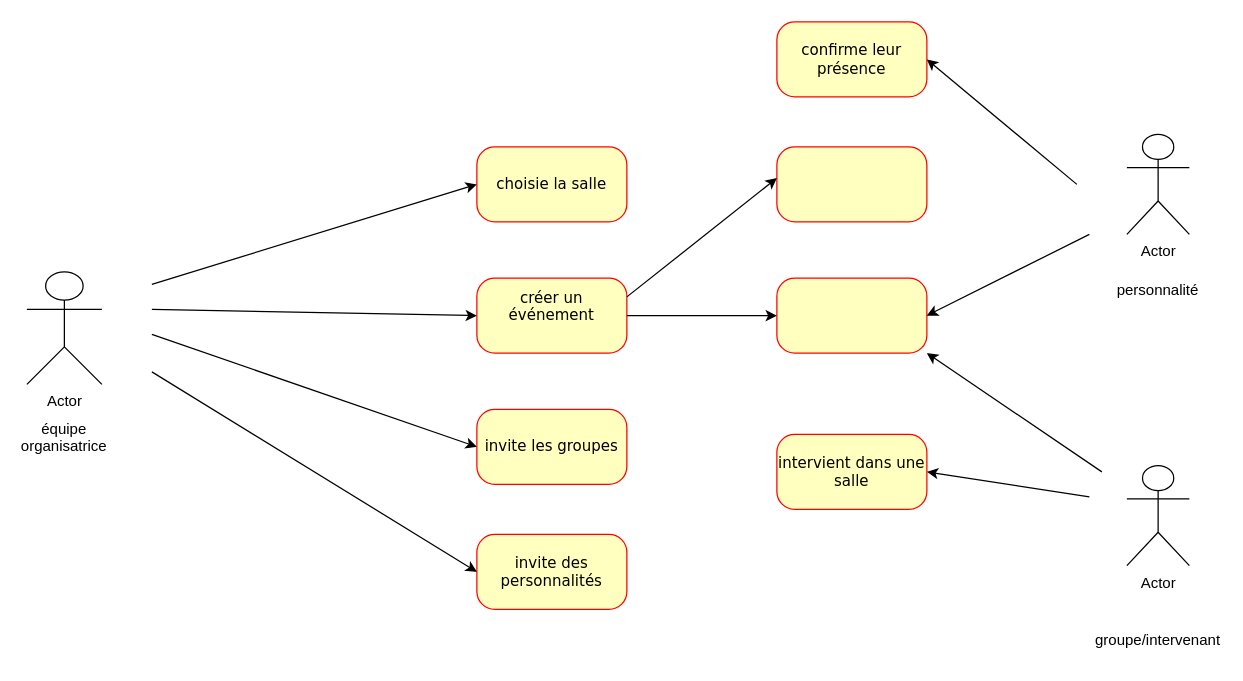
The diagram is 1243 pixels wide and 681 high, and some of its shapes have lost their labels. The shapes that lost their labels are listed below. From the top down, each one's box as (x1, y1, x2, y2) in pixels, then its label:
(776, 146, 927, 222): créée le planning des représentation
(776, 277, 927, 353): consulte le planning des représentation
